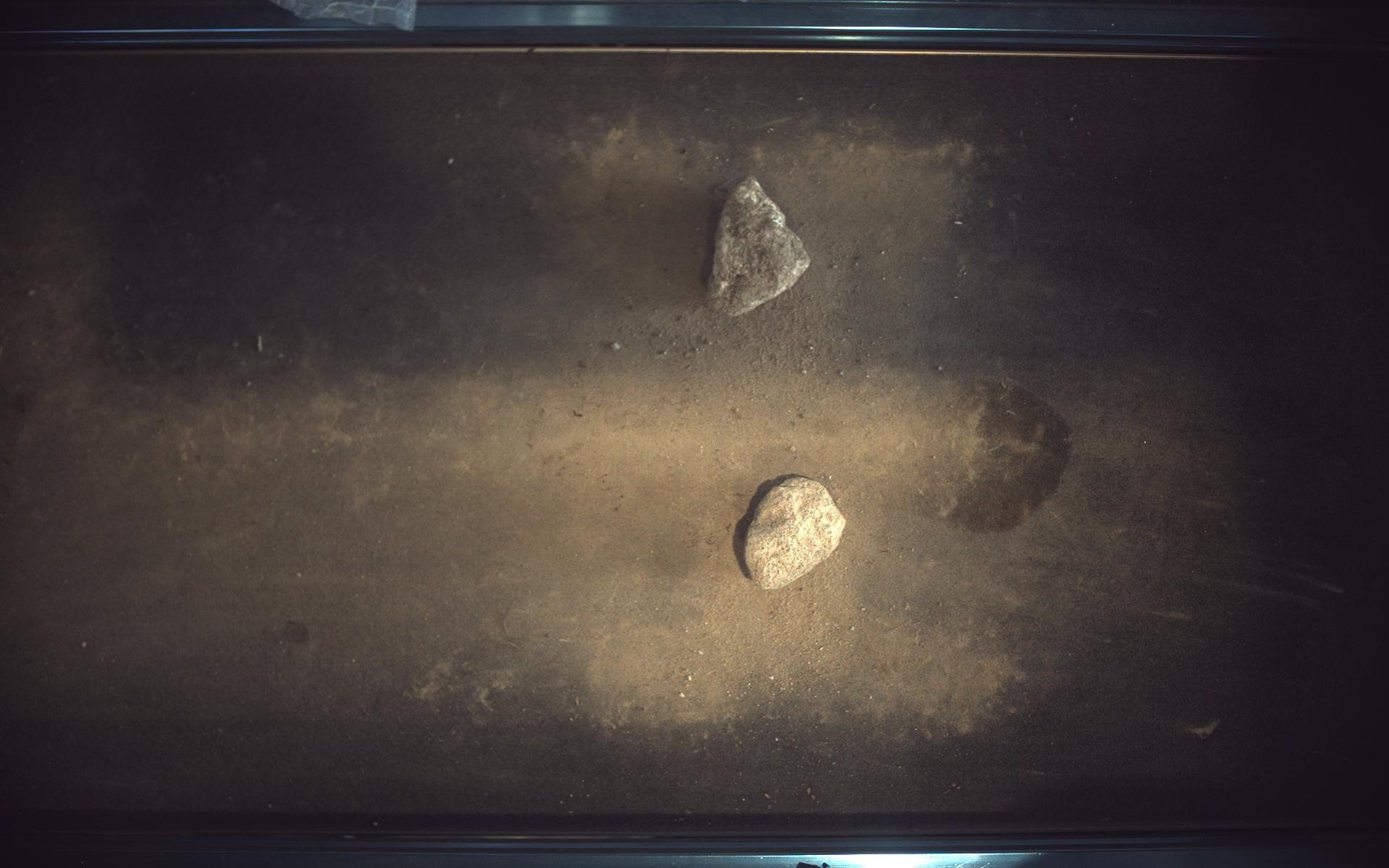stone: (708, 175, 812, 316), (746, 478, 847, 590)
